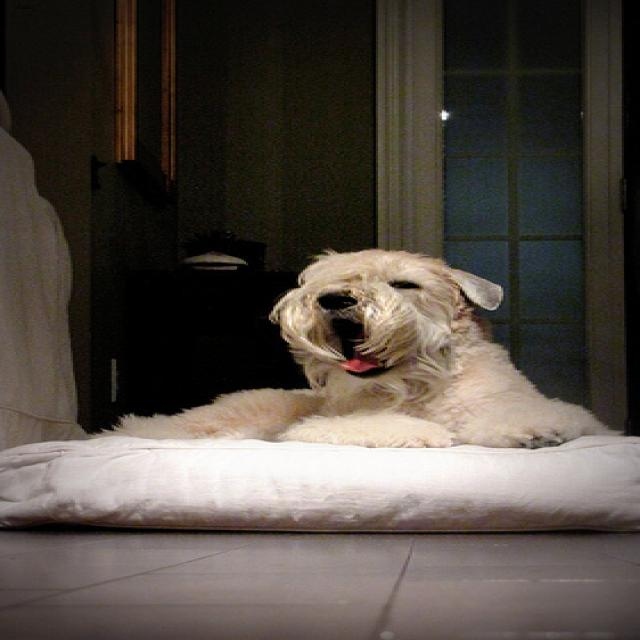dog-wheaten_terrier: (64, 242, 613, 454)
